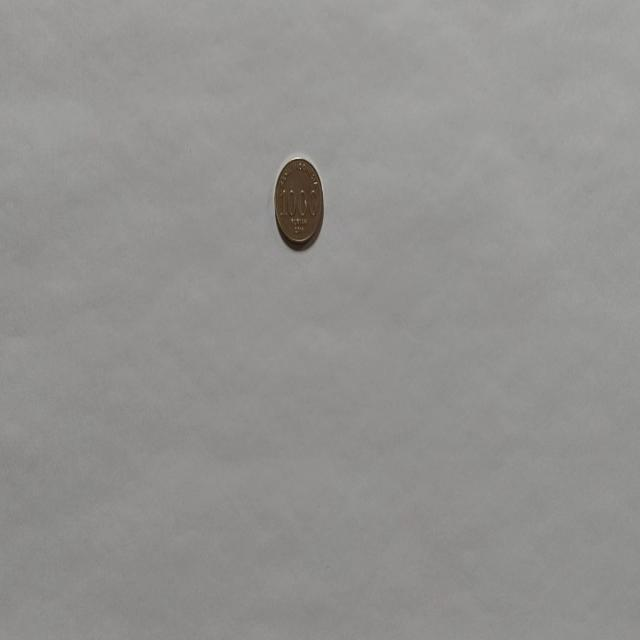seribu rupiah koin: (272, 156, 324, 250)
